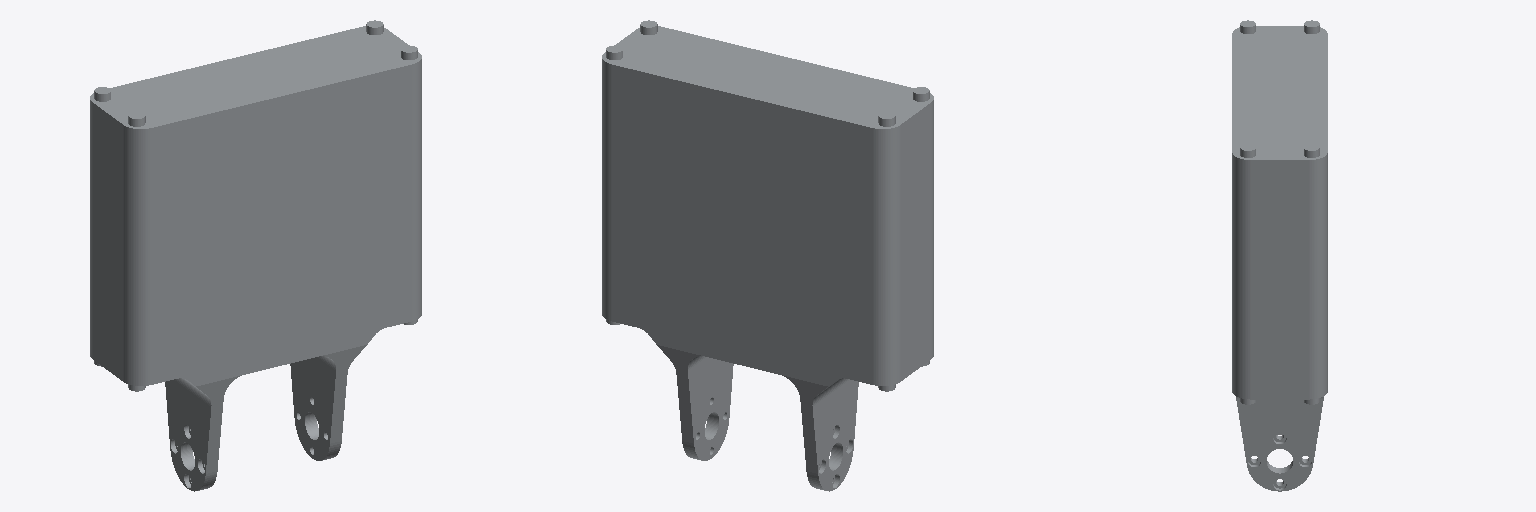
URDF robot description (sysID_XC430):
<robot name="sysID_XC430">
  <mujoco>
    <compiler strippath="false" balanceinertia="true" discardvisual="false" />
  </mujoco>
  <link name="xc430">
    <visual>
      <origin xyz="0 0 0" rpy="0 -0 0" />
      <geometry>
        <mesh filename="../assemblies/sysID_XC430/meshes/xc430_visual.stl" />
      </geometry>
      <material name="xc430_material">
        <color rgba="0.45010248699993049559 0.53856719363707639125 0.6974374687027361519 1.0" />
      </material>
    </visual>
    <inertial>
      <origin xyz="0.070803382406150972006 0.016525136218340060607 0.0055416231408349017618" rpy="0 0 0" />
      <mass value="0.082871926915724300478" />
      <inertia ixx="2.6883552248435915326e-05" ixy="-5.700957649207869646e-06" ixz="-3.8722869948354211137e-08" iyy="2.844530159990174003e-05" iyz="-5.0211748860902832812e-08" izz="4.2142728568908827396e-05" />
    </inertial>
  </link>

  <link name="arm_430">
    <visual>
      <origin xyz="0 0 0" rpy="0 -0 0" />
      <geometry>
        <mesh filename="../assemblies/sysID_XC430/meshes/arm_430_visual.stl" />
      </geometry>
      <material name="arm_430_material">
        <color rgba="0.63637372706091788199 0.65214796198853397513 0.66652949030079344794 1.0" />
      </material>
    </visual>
    <inertial>
      <origin xyz="-0.072793282502280523549 -1.8510327477514540339e-17 -0.019000000000000044631" rpy="0 0 0" />
      <mass value="0.09449999999999994404" />
      <inertia ixx="0.00037309315070967392133" ixy="-4.3833955020410042547e-20" ixz="-6.2256921623191074922e-20" iyy="0.00056139143256529505828" iyz="1.4656888712698962207e-16" izz="0.00027081483122170119668" />
    </inertial>
  </link>

  <joint name="joint_0" type="revolute">
    <origin xyz="0.054999999999999681088 0.032699857927858962114 0.0055693959459660142761" rpy="1.57079632679489678 -5.5511151231258061214e-17 -1.5707963267948972241" />
    <parent link="xc430" />
    <child link="arm_430" />
    <axis xyz="0 0 1" />
    <limit effort="1" velocity="20" lower="-1.570796326794896558" upper="1.570796326794896558" />
    <joint_properties friction="0.0" />
  </joint>


</robot>

--- Render facts (derived) ---
3 views of the same robot in one strip: view 1: azimuth 30°, elevation 25°; view 2: azimuth 150°, elevation 25°; view 3: azimuth 270°, elevation 25° (orthographic).
Model sysID_XC430 with 2 links and 1 joints (1 revolute), rooted at xc430, posed every joint at zero.
Links seen in each view (by area): view 1: arm_430; view 2: arm_430; view 3: arm_430.
Boxes of the visible links, x1=… form: arm_430: x1=90, y1=20, x2=421, y2=491; arm_430: x1=602, y1=20, x2=933, y2=491; arm_430: x1=1232, y1=20, x2=1327, y2=491.
Bounding box of the posed robot: 0.1 × 0.03 × 0.13 m (x, y, z).
1 mesh visuals loaded from 2 distinct referenced files (1 binary STL); not drawn: 1 (reference not matched to a file when rendering).